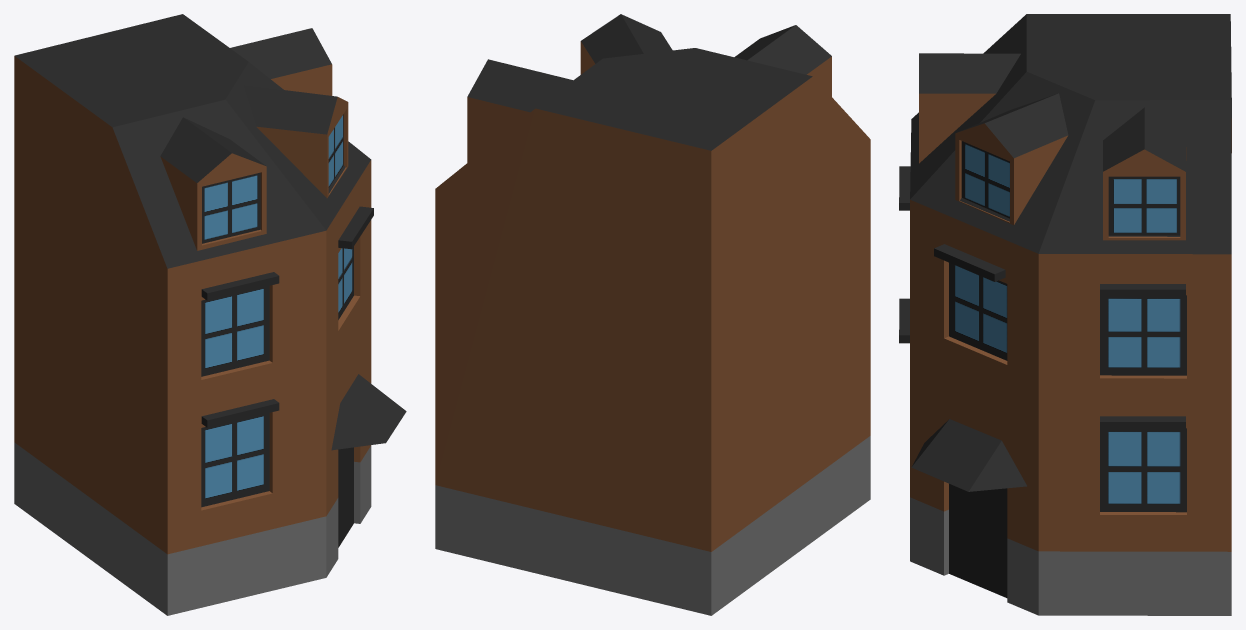
The model's file is CornerSquereBrown.obj.
3 views of the same model, side by side, from view 1: azimuth 30°, elevation 25°; view 2: azimuth 150°, elevation 25°; view 3: azimuth 270°, elevation 25° (orthographic). The views are drawn at different scales.
Visible parts, largest first — view 1: NaroznikBrazowy; view 2: NaroznikBrazowy; view 3: NaroznikBrazowy.
Boxes of the visible parts, x1=… form: NaroznikBrazowy: x1=14, y1=14, x2=406, y2=615; NaroznikBrazowy: x1=435, y1=14, x2=870, y2=615; NaroznikBrazowy: x1=899, y1=14, x2=1231, y2=615.
Bounding box in the file's own units: 5.21 × 8.07 × 5.21.
